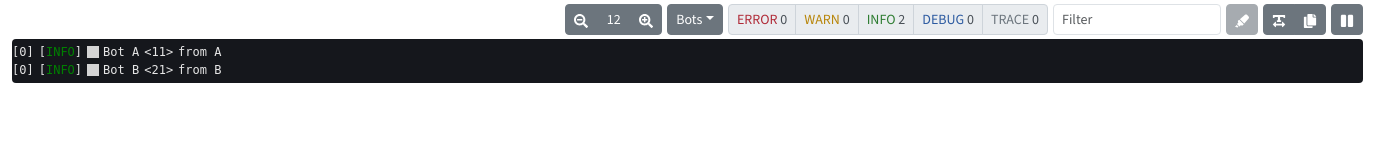
Scenario: Logs (per-bot filtering) › clicking a team chip filters to that app; "All bots ×" clears it
Click the team chip on A's line.
Click the button titled "Show only this app's logs".
click(113, 52)  # box [87, 45, 139, 59]
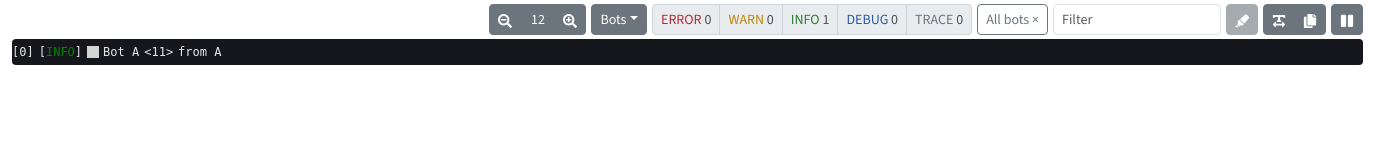
Expected: the text "from A" is shown, [178, 45, 222, 59]
Expected: the text "from B" is gone
The clear chip restores the unfiltered view.
Click the button with aria-label "Show all bots".
click(1013, 20)  # box [977, 4, 1048, 35]
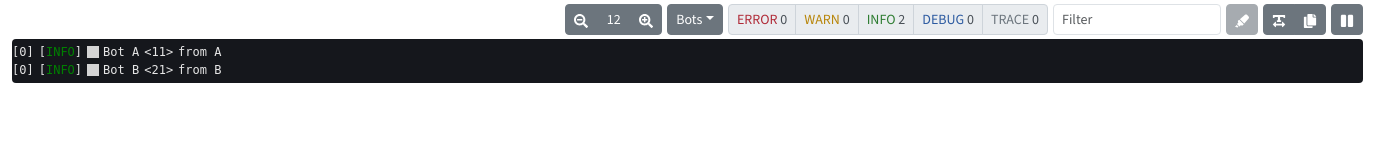
Expected: the text "from B" is shown, [178, 63, 222, 77]
